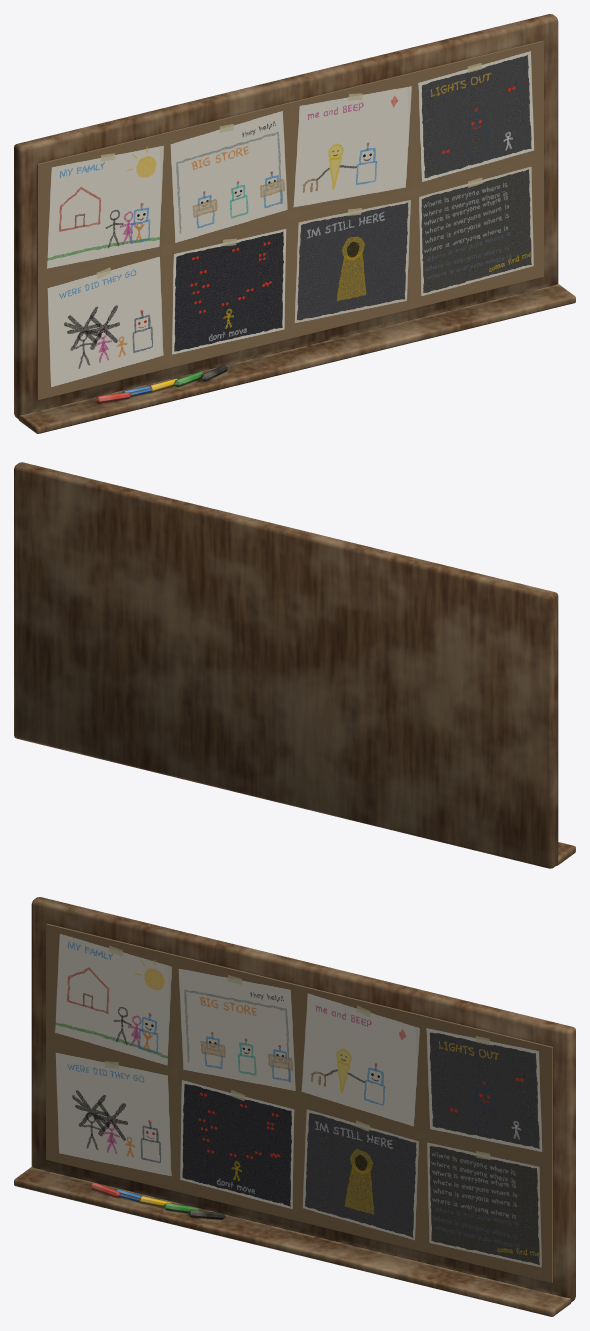
The model's file is drawing_wall.fbx.
The picture shows the model from 3 angles, top to bottom: view 1: azimuth 30°, elevation 25°; view 2: azimuth 150°, elevation 25°; view 3: azimuth 330°, elevation 25°; orthographic projection.
Visible parts, largest first — view 1: Screen, Body; view 2: Body; view 3: Screen, Body.
Part boxes in pixels (x1,y1,x2,y2): Screen: (37,40,543,399); Body: (14,14,575,433); Body: (14,462,575,868); Screen: (46,923,552,1282); Body: (14,897,575,1316).
Size of the model in its own units: 6.4 by 3.1 by 0.51.
2 materials, 2 textured.
